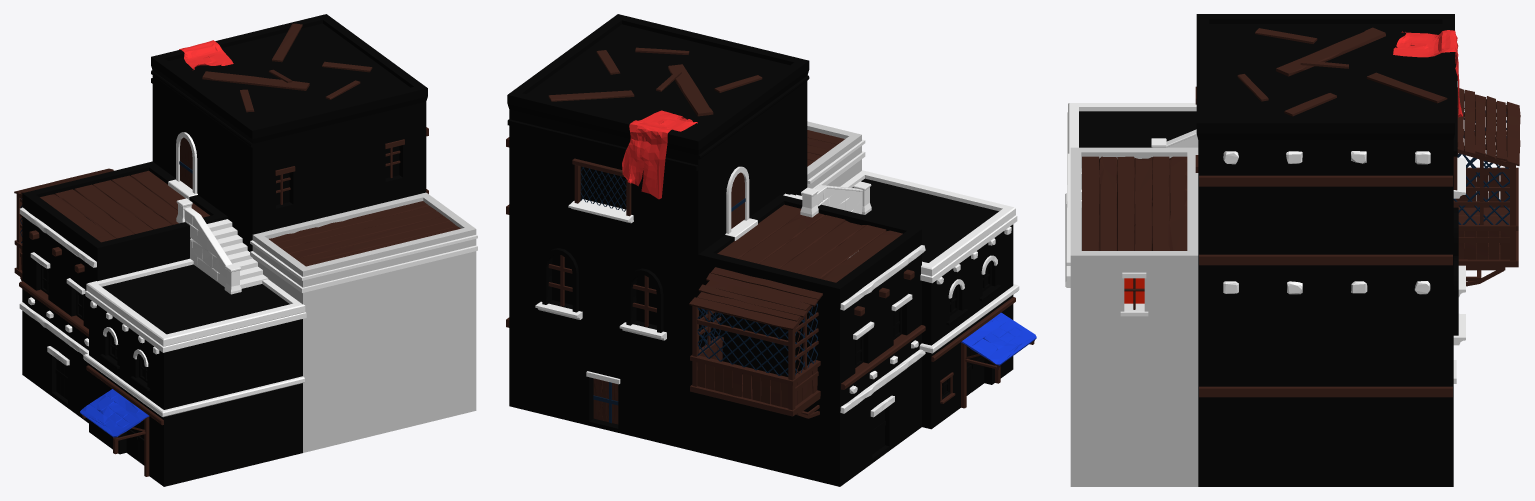
File: civilian_house_14.FBX
3 views of the same model, side by side, from view 1: azimuth 30°, elevation 25°; view 2: azimuth 150°, elevation 25°; view 3: azimuth 270°, elevation 25° (orthographic). The views are drawn at different scales.
Visible parts, largest first — view 1: civilian_house_14; view 2: civilian_house_14; view 3: civilian_house_14.
Boxes of the visible parts, x1,y1,x2,y2 form: civilian_house_14: (14, 14, 477, 486); civilian_house_14: (506, 14, 1036, 486); civilian_house_14: (1065, 14, 1520, 486).
Bounding box in the file's own units: 2026 × 1587 × 1783.
